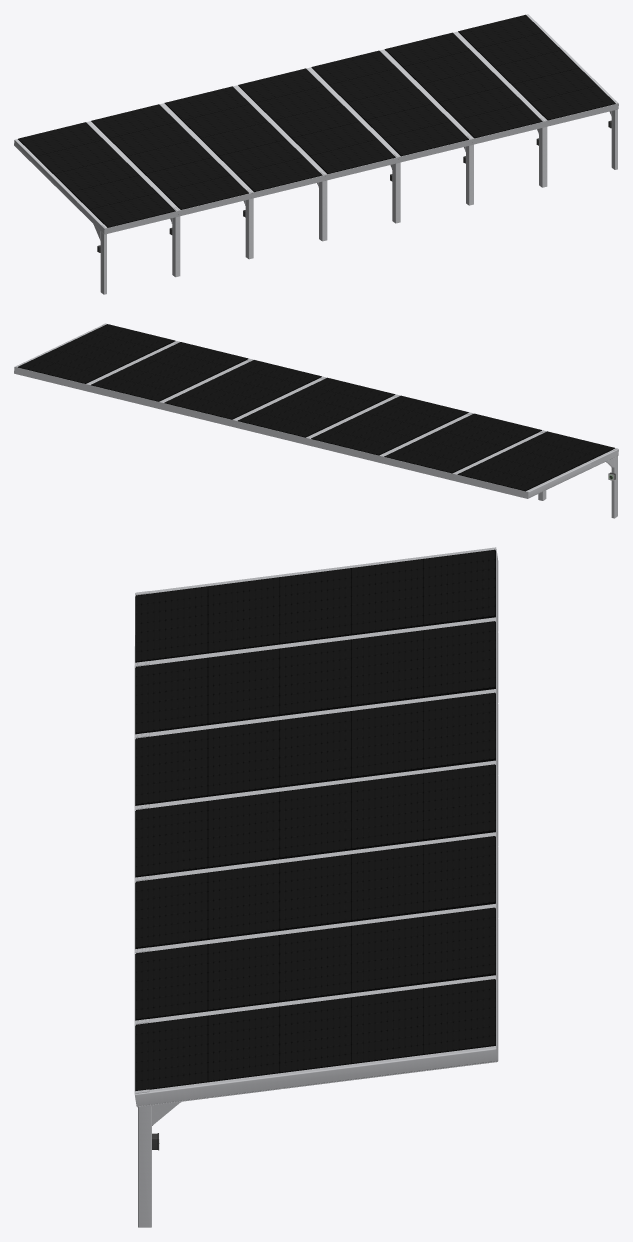
Rendered from Cap_7.glb.
3 renders of one model, top to bottom at view 1: azimuth 30°, elevation 25°; view 2: azimuth 150°, elevation 25°; view 3: azimuth 270°, elevation 25°, orthographic. The views are drawn at different scales.
Parts seen in each view (by area): view 1: Left.083, Middle.042, Middle.040, Middle.045, Middle.039, Middle.041, Middle.043, Right.010; view 2: Left.083, Middle.039, Middle.041, Middle.042, Middle.043, Middle.040, Middle.045; view 3: Middle.045, Middle.042, Middle.041, Middle.040, Middle.039, Middle.043, Left.083, Right.010.
Boxes of the visible parts, x1,y1,x2,y2 form: Left.083: (14, 122, 178, 294); Middle.042: (306, 50, 472, 223); Middle.040: (159, 86, 325, 259); Middle.045: (453, 14, 618, 187); Middle.039: (86, 104, 251, 277); Middle.041: (233, 68, 398, 241); Middle.043: (380, 32, 545, 205); Right.010: (526, 14, 617, 169); Left.083: (454, 431, 618, 518); Middle.039: (380, 413, 546, 500); Middle.041: (234, 377, 399, 445); Middle.042: (160, 360, 326, 427); Middle.043: (87, 342, 252, 409); Middle.040: (307, 395, 473, 462); Middle.045: (14, 324, 179, 391); Middle.045: (134, 975, 498, 1107); Middle.042: (134, 832, 498, 951); Middle.041: (134, 760, 498, 879); Middle.040: (134, 689, 498, 808); Middle.039: (134, 617, 498, 736); Middle.043: (134, 903, 498, 1022); Left.083: (134, 547, 498, 664); Right.010: (135, 1046, 497, 1227).
Size of the model in its own units: 18.71 by 3.11 by 5.7.
Materials: 5 (5 with a texture image).
